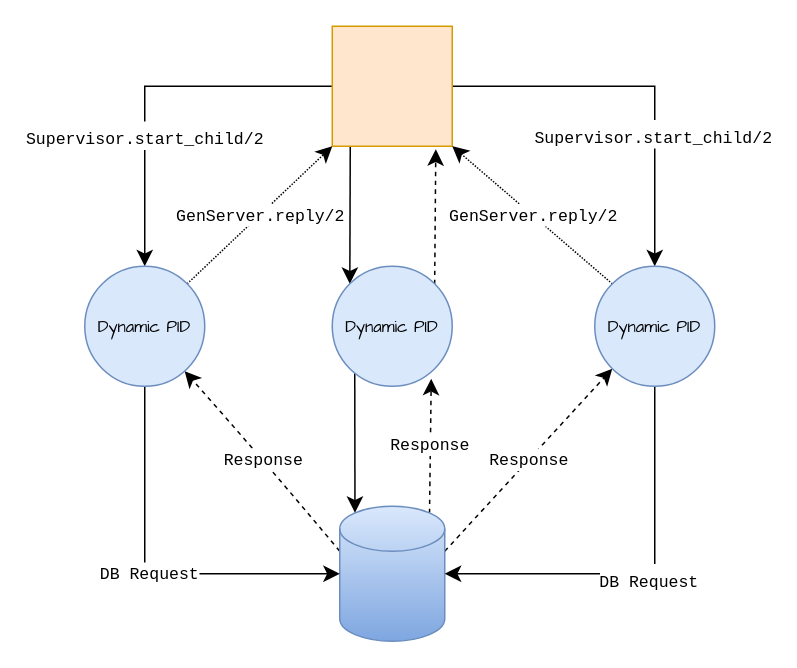
Some shapes in this 797 by 668 pixel diagram are drawn without their labels. Here are the shapes that lost their labels. From the top down, the centre of each, then its label:
At point 391,85: "Main DB Process".
At point 391,573: "Database".
